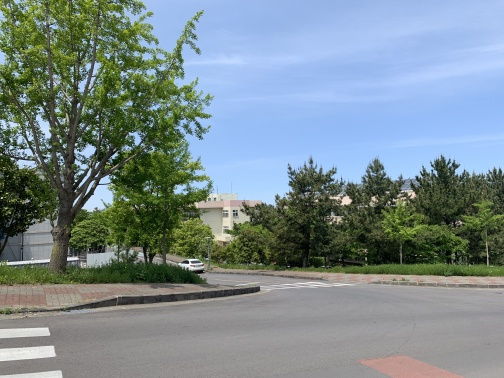College Of Education: (308, 185, 423, 226), (188, 190, 267, 245)
